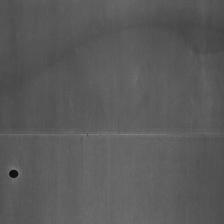welding_line: (2, 128, 224, 141), (7, 165, 21, 180)
